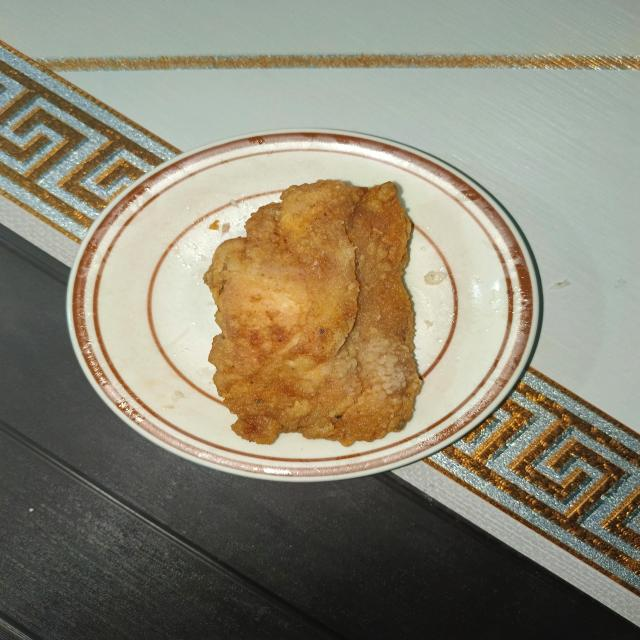Chicken -Fried Chicken-: (194, 146, 472, 466)
